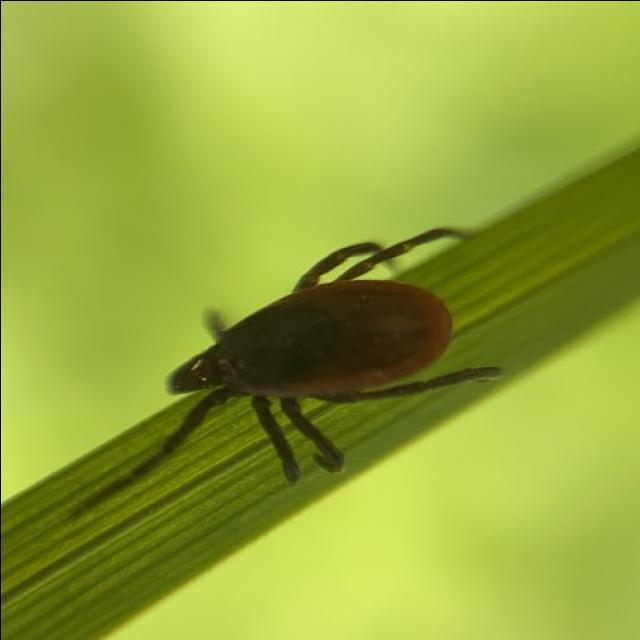Ixodes Ricinus-F: (114, 227, 497, 485)
